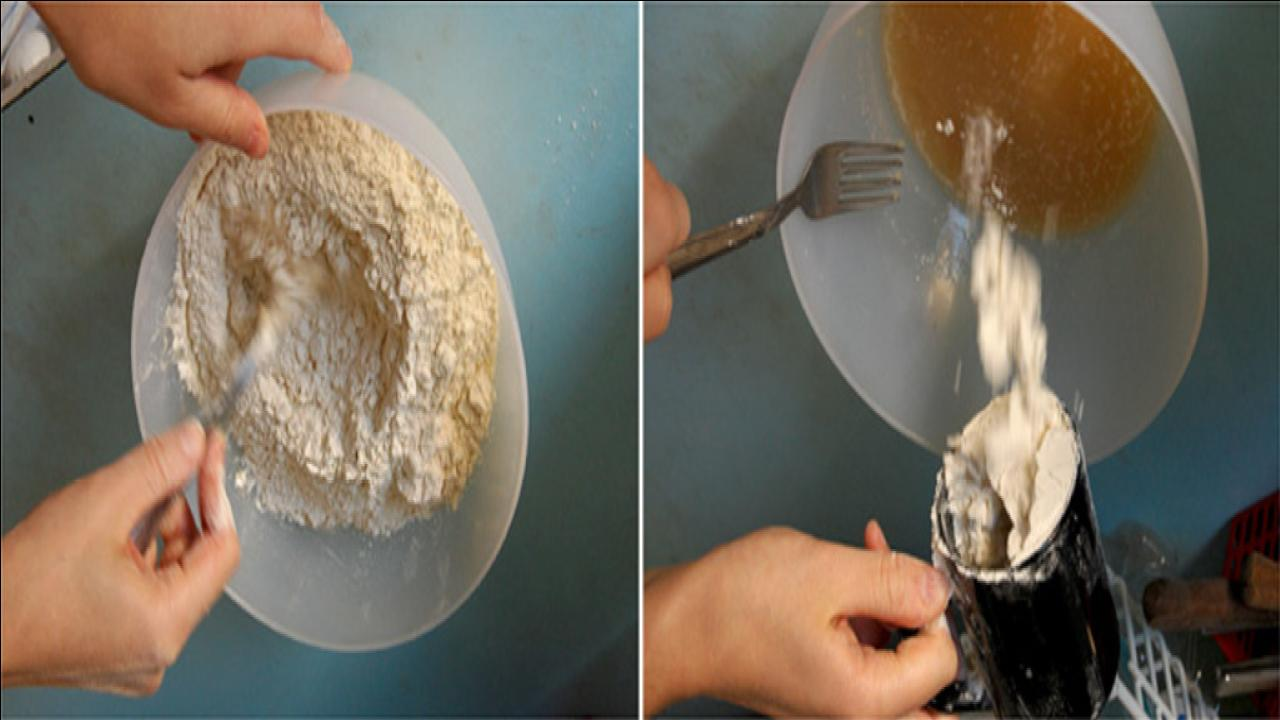fork: (664, 125, 906, 285)
